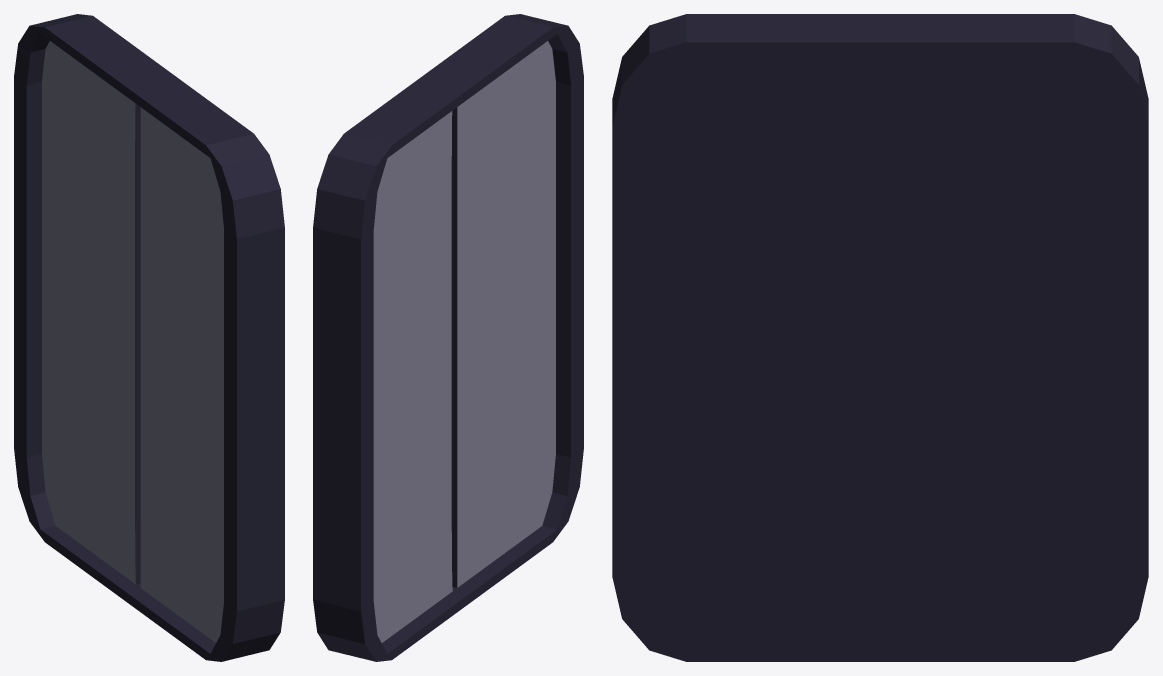
File: SM_door.fbx
The picture shows the model from 3 angles, left to right: view 1: azimuth 30°, elevation 25°; view 2: azimuth 150°, elevation 25°; view 3: azimuth 270°, elevation 25°; orthographic projection. The views are drawn at different scales.
Parts seen in each view (by area): view 1: DOOR SLIDING; view 2: DOOR SLIDING; view 3: DOOR SLIDING.
Boxes of the visible parts, x1,y1,x2,y2 form: DOOR SLIDING: (14,14,284,661); DOOR SLIDING: (313,14,583,661); DOOR SLIDING: (612,14,1148,661).
Bounding box in the file's own units: 42.33 × 434 × 340.
